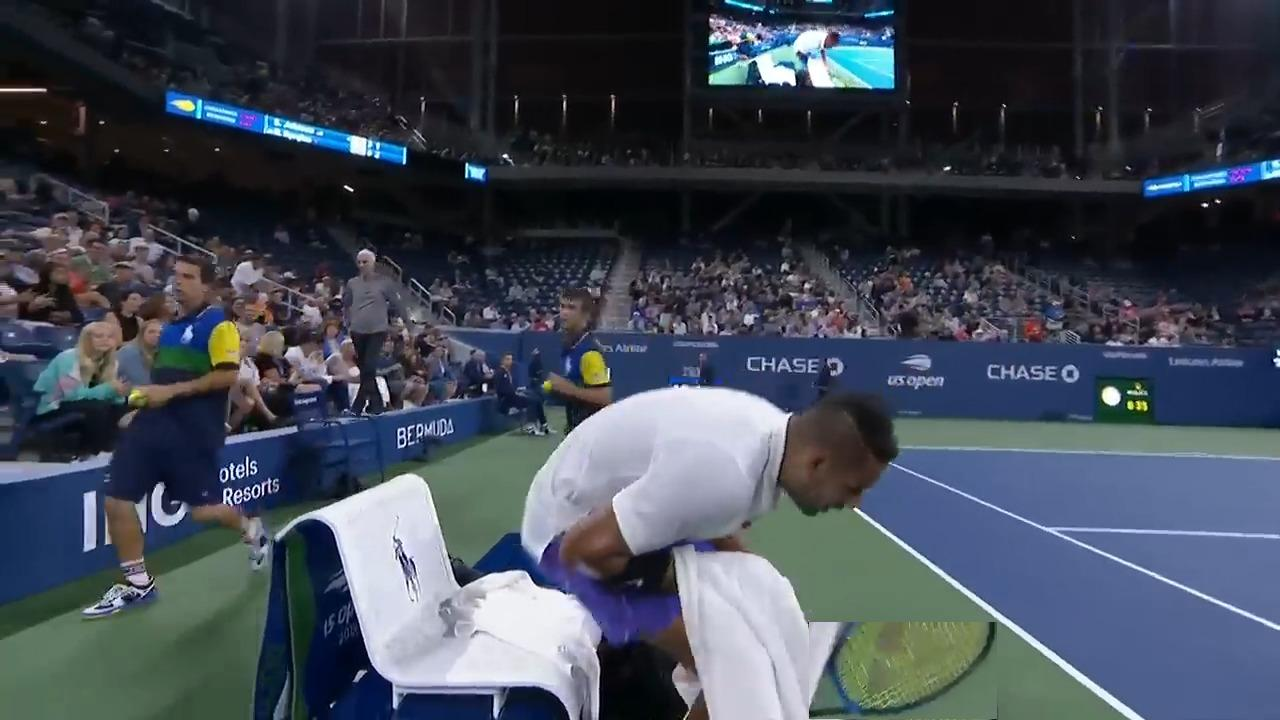tennis racket: (810, 622, 996, 719)
